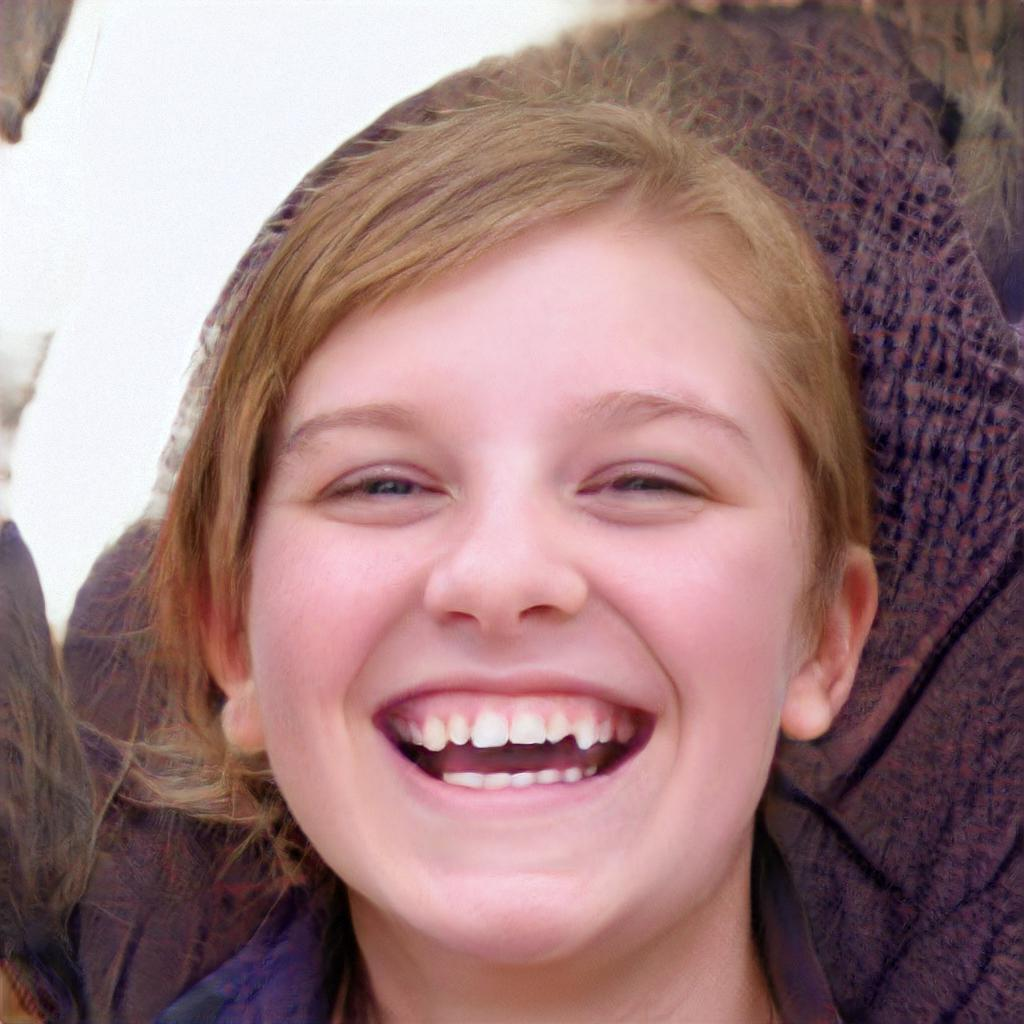face: (249, 219, 785, 958)
